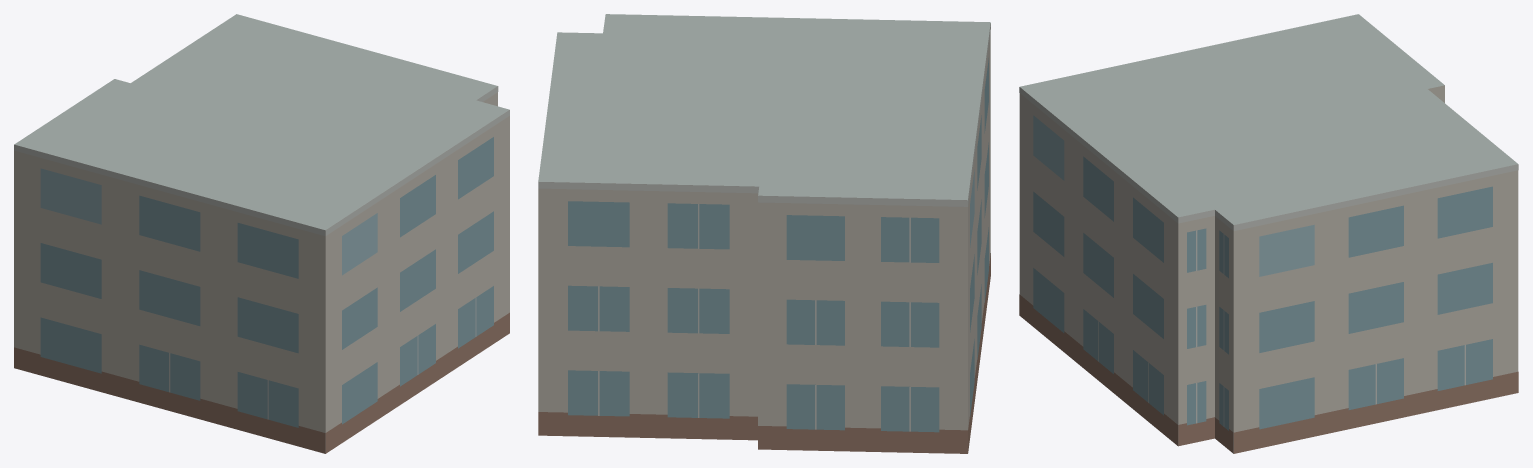
File: survey-upis-32803944.glb
3 renders of one model, left to right at view 1: azimuth 30°, elevation 25°; view 2: azimuth 150°, elevation 25°; view 3: azimuth 270°, elevation 25°, orthographic. The views are drawn at different scales.
Visible parts, largest first — view 1: survey-upis-32803944.tmp; view 2: survey-upis-32803944.tmp; view 3: survey-upis-32803944.tmp.
Boxes of the visible parts, <box> form: survey-upis-32803944.tmp: <box>14,14,509,453</box>; survey-upis-32803944.tmp: <box>538,14,990,453</box>; survey-upis-32803944.tmp: <box>1019,14,1518,453</box>.
Size of the model in its own units: 18.12 by 9.15 by 18.1.
